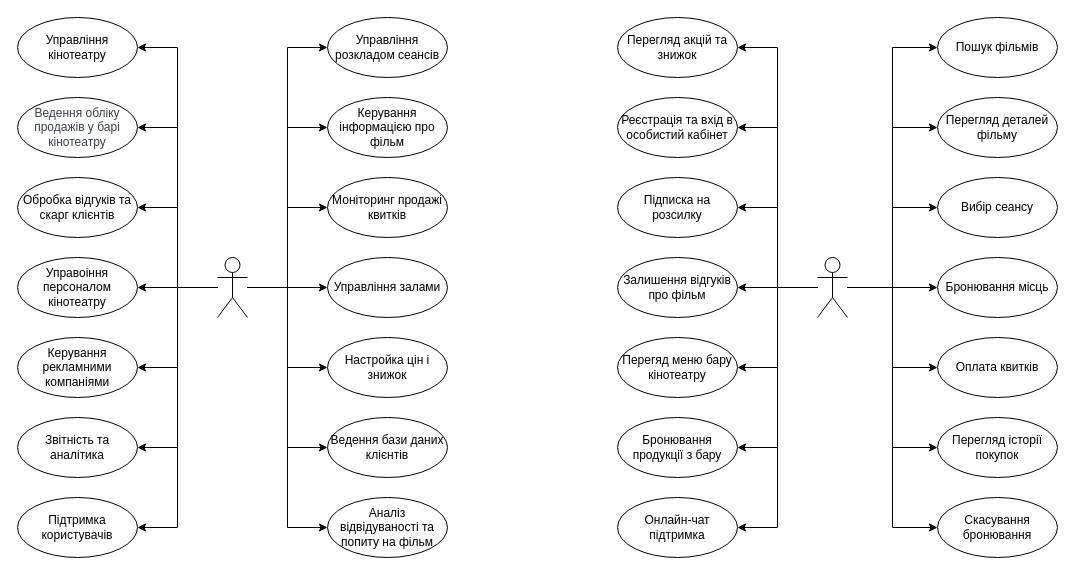
Some shapes in this 1075 by 575 pixel diagram are drawn without their labels. The centre of each missing label's shape, as x and y in pixels:
"Адміністратор кінотеатру" goes at [232,287].
"Клієнт" goes at [832,287].
